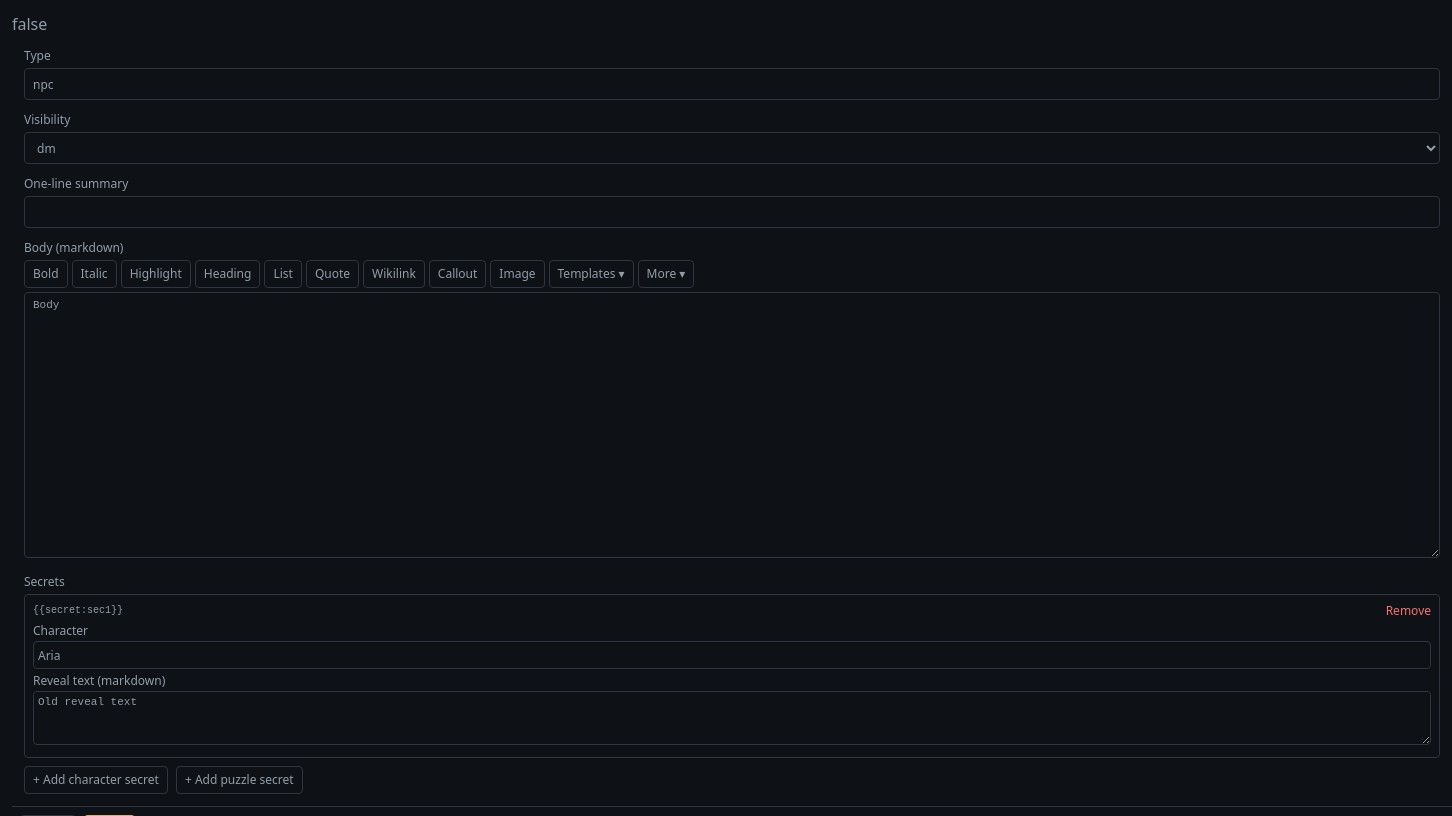
EntityEditPanel — secret edits mark the draft dirty (N99) › editing a secret's character field also flips isDirty
Expected: the text with test id "dirty" reads "false", [12,13,47,35]
Replace the text in the field with placeholder "Character name" with "Bren": (732, 655) [33,641,1431,669]
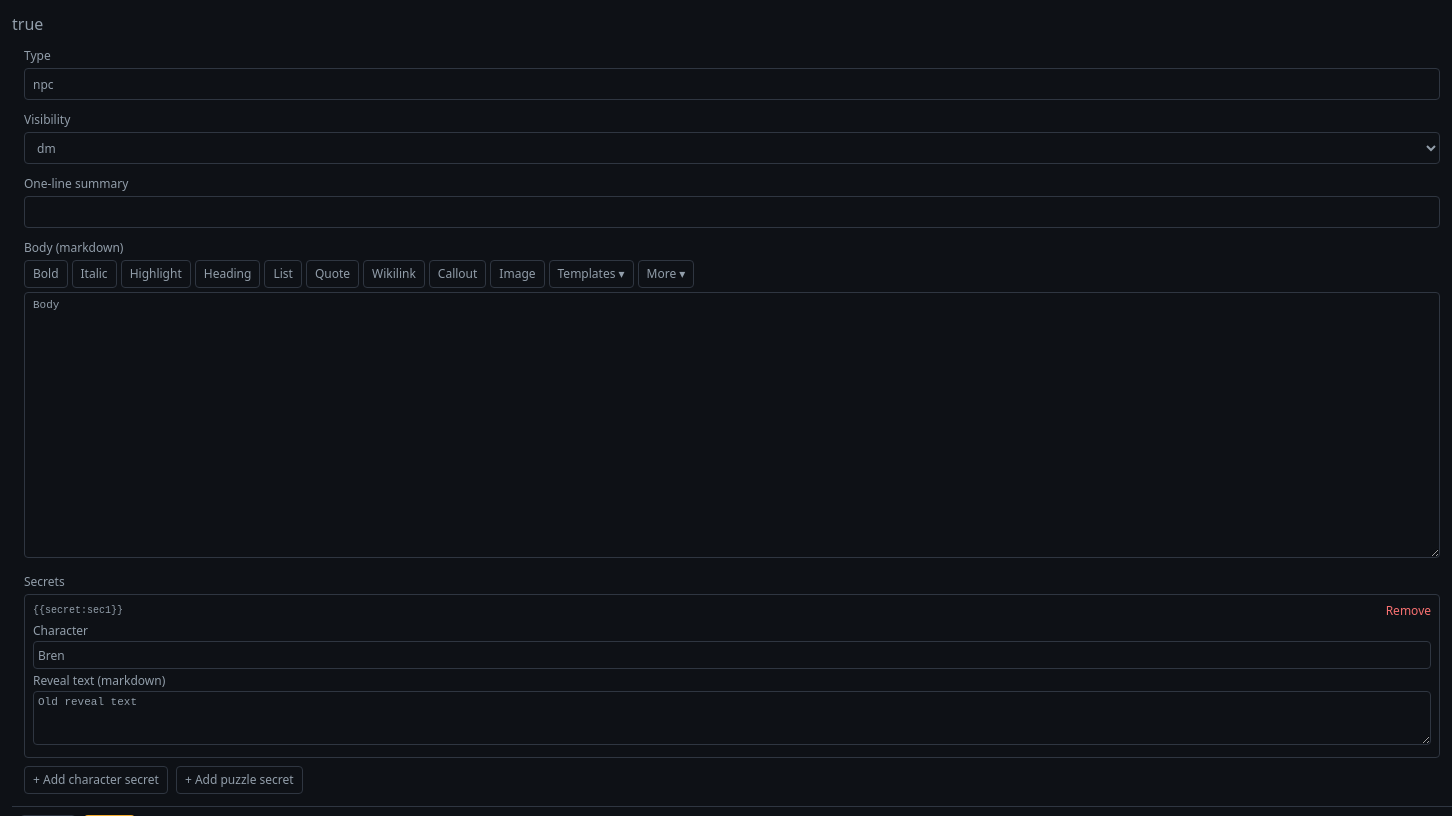
Now the text with test id "dirty" reads "true", box [12,13,43,35]
